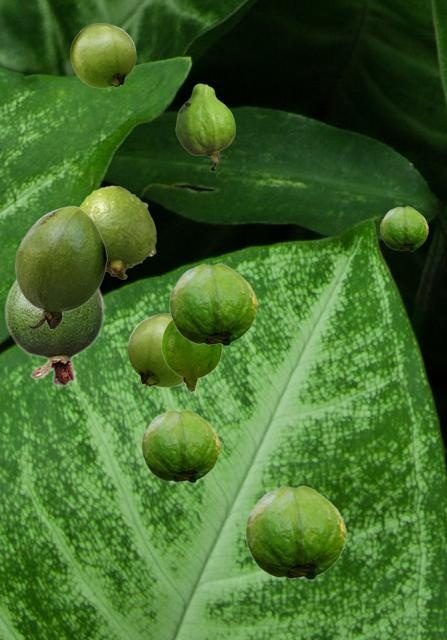guava: (15, 206, 106, 329), (4, 278, 104, 386), (245, 485, 345, 579), (169, 263, 256, 345), (79, 185, 155, 278), (141, 409, 219, 482), (175, 83, 234, 170), (161, 319, 221, 391), (70, 23, 135, 87), (127, 313, 183, 386), (380, 206, 427, 250)
